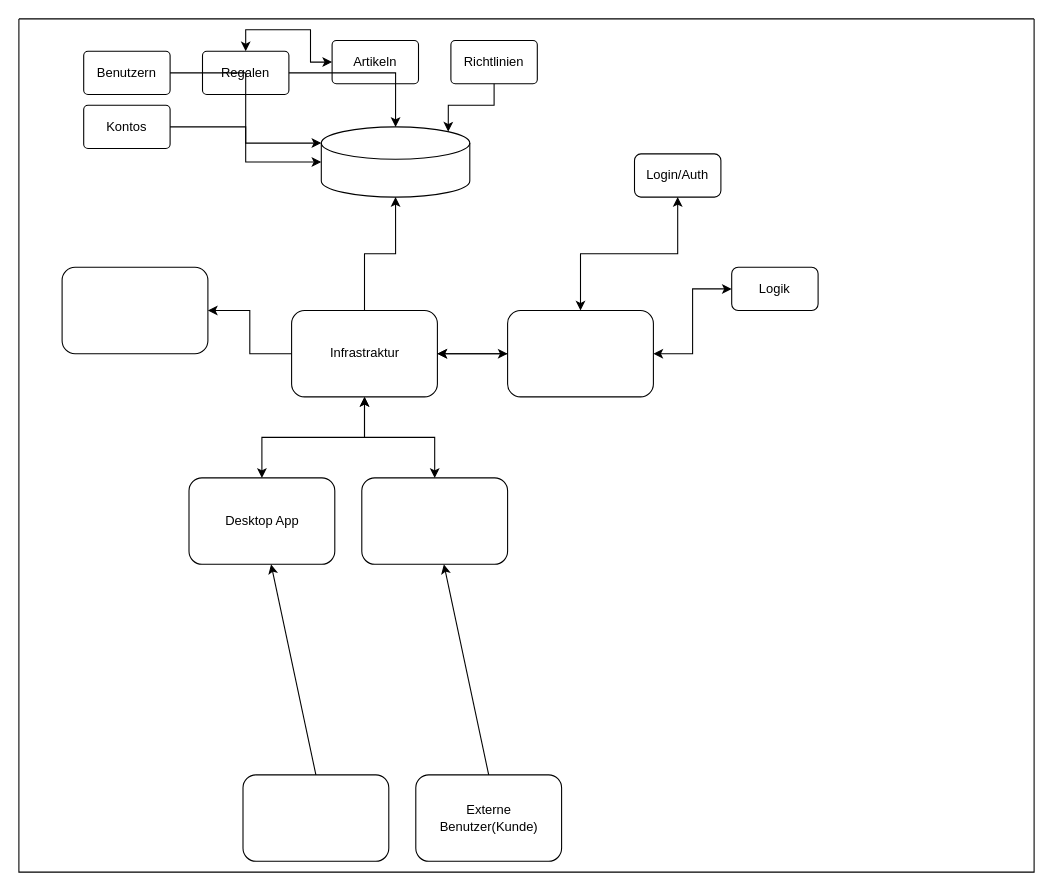
The diagram is 1053 pixels wide and 891 high, and some of its shapes have lost their labels. The centre of each missing label's shape, as x and y in pixels:
Externen Services/Providers: (x=134, y=310)
Interne Benutzer(Administration): (x=315, y=817)
Interne Services/Providers: (x=580, y=353)
library.db: (x=395, y=161)
Web Applikation: (x=434, y=520)
